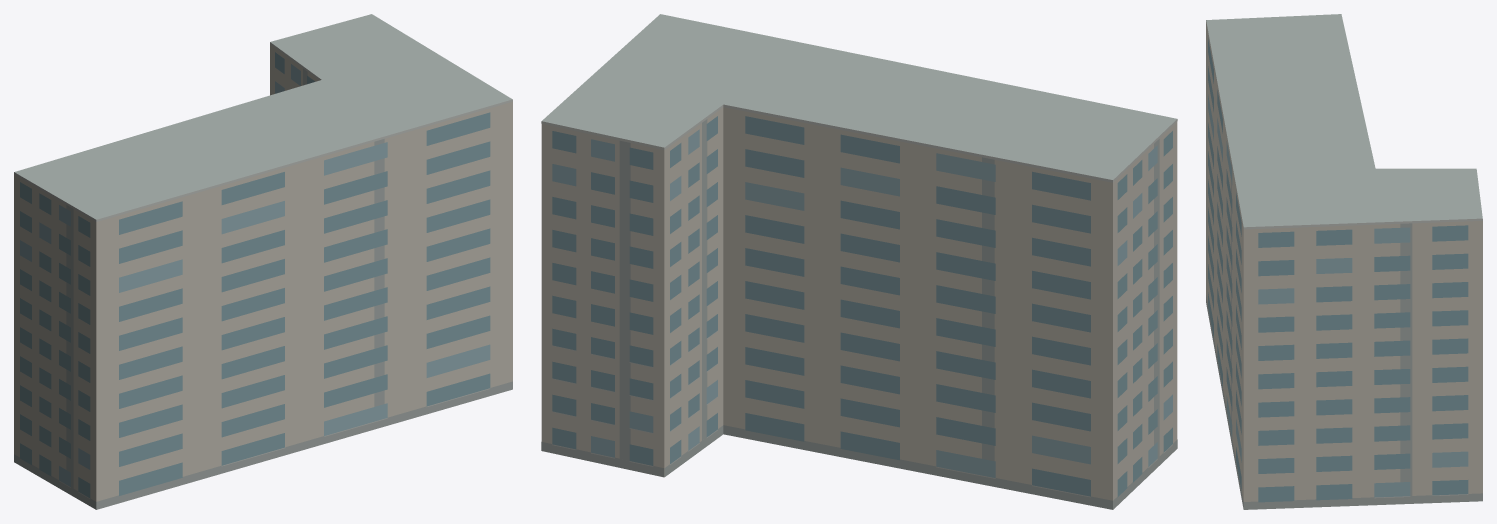
The model's file is residential-26c26dee-b861-4991-9e69-7010b09afbe5.glb.
The picture shows the model from 3 angles, left to right: view 1: azimuth 30°, elevation 25°; view 2: azimuth 150°, elevation 25°; view 3: azimuth 270°, elevation 25°; orthographic projection. The views are drawn at different scales.
Parts seen in each view (by area): view 1: residential-26c26dee-b861-4991-9e69-7010b09afbe5.tmp; view 2: residential-26c26dee-b861-4991-9e69-7010b09afbe5.tmp; view 3: residential-26c26dee-b861-4991-9e69-7010b09afbe5.tmp.
Boxes of the visible parts, bbox=[...] form: residential-26c26dee-b861-4991-9e69-7010b09afbe5.tmp: bbox=[14, 14, 512, 509]; residential-26c26dee-b861-4991-9e69-7010b09afbe5.tmp: bbox=[541, 14, 1177, 509]; residential-26c26dee-b861-4991-9e69-7010b09afbe5.tmp: bbox=[1206, 14, 1482, 509].
Bounding box in the file's own units: 50.16 × 31 × 27.51.
